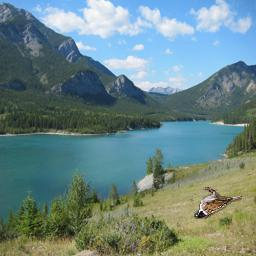Sparrow: (194, 187, 242, 219)
